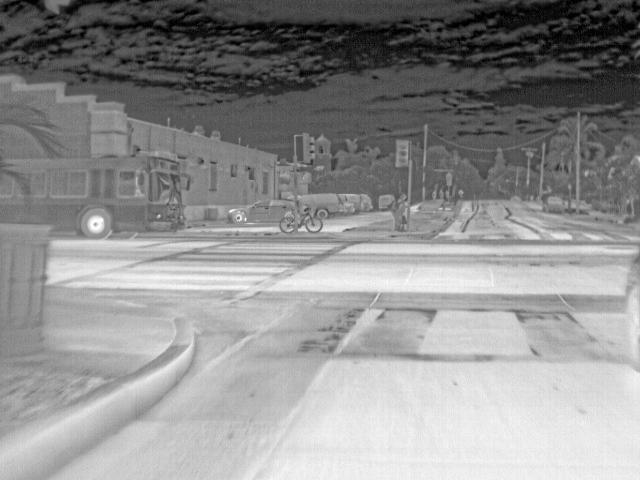car: (227, 199, 296, 226), (302, 192, 341, 218), (343, 191, 364, 214), (543, 194, 564, 214), (340, 200, 356, 216), (378, 194, 394, 209), (358, 193, 372, 210)
person: (398, 191, 409, 232), (391, 196, 400, 229), (438, 188, 446, 200), (431, 190, 438, 200)
